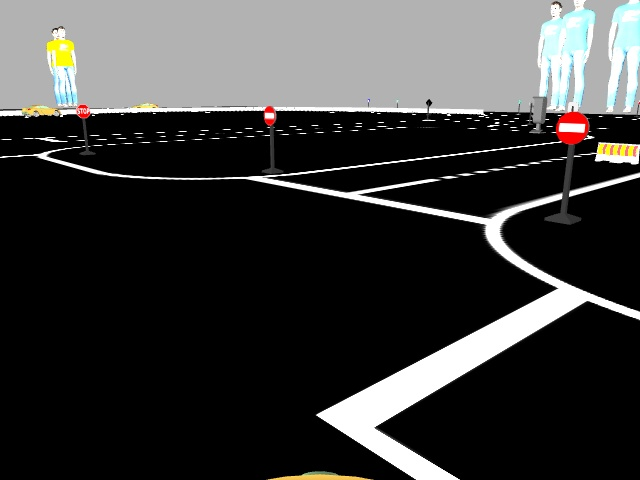ClosedRoadStand: (599, 143, 637, 161)
NoEntry: (556, 110, 589, 142), (262, 106, 275, 123)
Stop: (75, 104, 88, 117)
